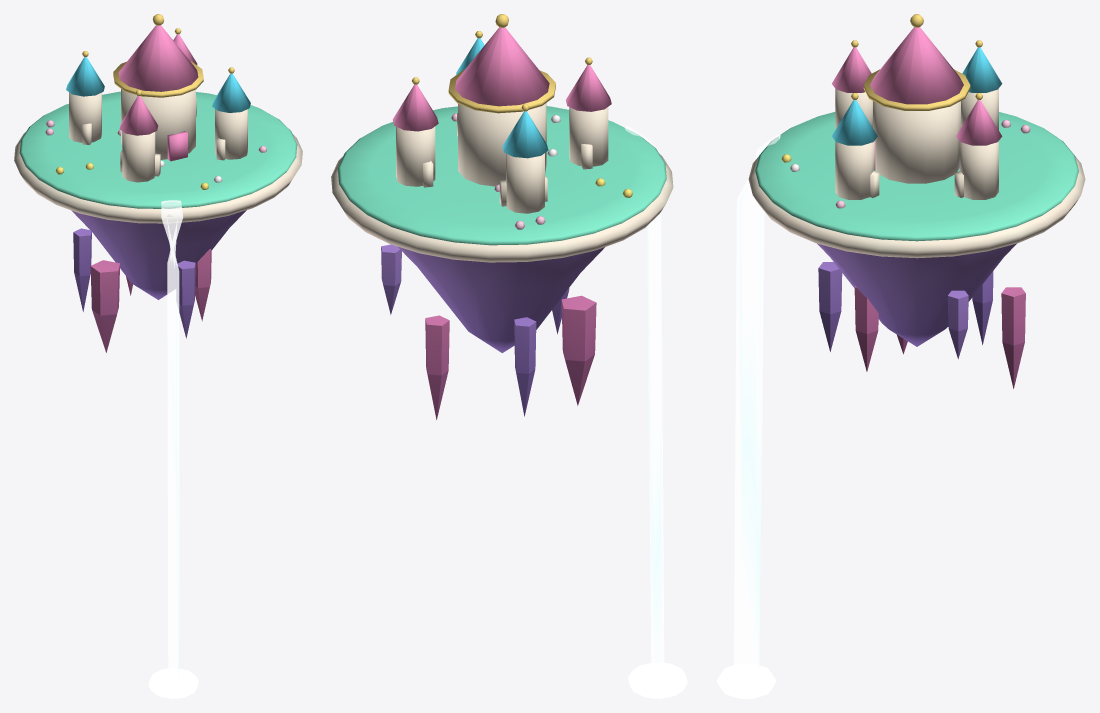
The model's file is bg_islet_b.glb.
3 renders of one model, left to right at view 1: azimuth 30°, elevation 25°; view 2: azimuth 150°, elevation 25°; view 3: azimuth 270°, elevation 25°, orthographic. The views are drawn at different scales.
Visible parts, largest first — view 1: M_Islet_b__is_grass, M_Islet_b__is_rock, M_Islet_b__is_cream, M_Islet_b__is_water, M_Islet_b__is_pk, M_Islet_b__is_rim, M_Islet_b__is_rock2, M_Islet_b__is_aq, M_Islet_b__is_foam, M_Islet_b__is_gold; view 2: M_Islet_b__is_grass, M_Islet_b__is_rock, M_Islet_b__is_cream, M_Islet_b__is_pk, M_Islet_b__is_water, M_Islet_b__is_rim, M_Islet_b__is_rock2, M_Islet_b__is_foam, M_Islet_b__is_aq, M_Islet_b__is_gold; view 3: M_Islet_b__is_grass, M_Islet_b__is_water, M_Islet_b__is_rock, M_Islet_b__is_cream, M_Islet_b__is_pk, M_Islet_b__is_rim, M_Islet_b__is_rock2, M_Islet_b__is_aq, M_Islet_b__is_foam, M_Islet_b__is_gold.
Part boxes in pixels (<box>): M_Islet_b__is_grass: <box>19,91,297,208</box>; M_Islet_b__is_rock: <box>71,210,246,338</box>; M_Islet_b__is_cream: <box>69,89,247,182</box>; M_Islet_b__is_water: <box>161,200,183,676</box>; M_Islet_b__is_pk: <box>118,25,198,161</box>; M_Islet_b__is_rim: <box>14,132,302,223</box>; M_Islet_b__is_rock2: <box>90,249,211,352</box>; M_Islet_b__is_aq: <box>66,57,250,112</box>; M_Islet_b__is_foam: <box>148,668,198,698</box>; M_Islet_b__is_gold: <box>82,14,234,97</box>; M_Islet_b__is_grass: <box>337,106,666,245</box>; M_Islet_b__is_rock: <box>381,244,604,416</box>; M_Islet_b__is_cream: <box>396,103,608,213</box>; M_Islet_b__is_pk: <box>392,27,611,131</box>; M_Islet_b__is_water: <box>624,126,664,672</box>; M_Islet_b__is_rim: <box>331,154,673,262</box>; M_Islet_b__is_rock2: <box>425,295,596,419</box>; M_Islet_b__is_foam: <box>628,662,687,698</box>; M_Islet_b__is_aq: <box>456,38,548,158</box>; M_Islet_b__is_gold: <box>412,14,592,113</box>; M_Islet_b__is_grass: <box>755,112,1078,241</box>; M_Islet_b__is_water: <box>734,135,780,668</box>; M_Islet_b__is_rock: <box>817,243,1016,358</box>; M_Islet_b__is_cream: <box>835,88,998,199</box>; M_Islet_b__is_pk: <box>832,27,1002,169</box>; M_Islet_b__is_rim: <box>748,156,1085,258</box>; M_Islet_b__is_rock2: <box>854,286,1025,388</box>; M_Islet_b__is_aq: <box>831,47,1002,145</box>; M_Islet_b__is_foam: <box>716,664,776,698</box>; M_Islet_b__is_gold: <box>851,14,982,110</box>.
Bounding box in the file's own units: 14.56 × 34 × 15.95.
